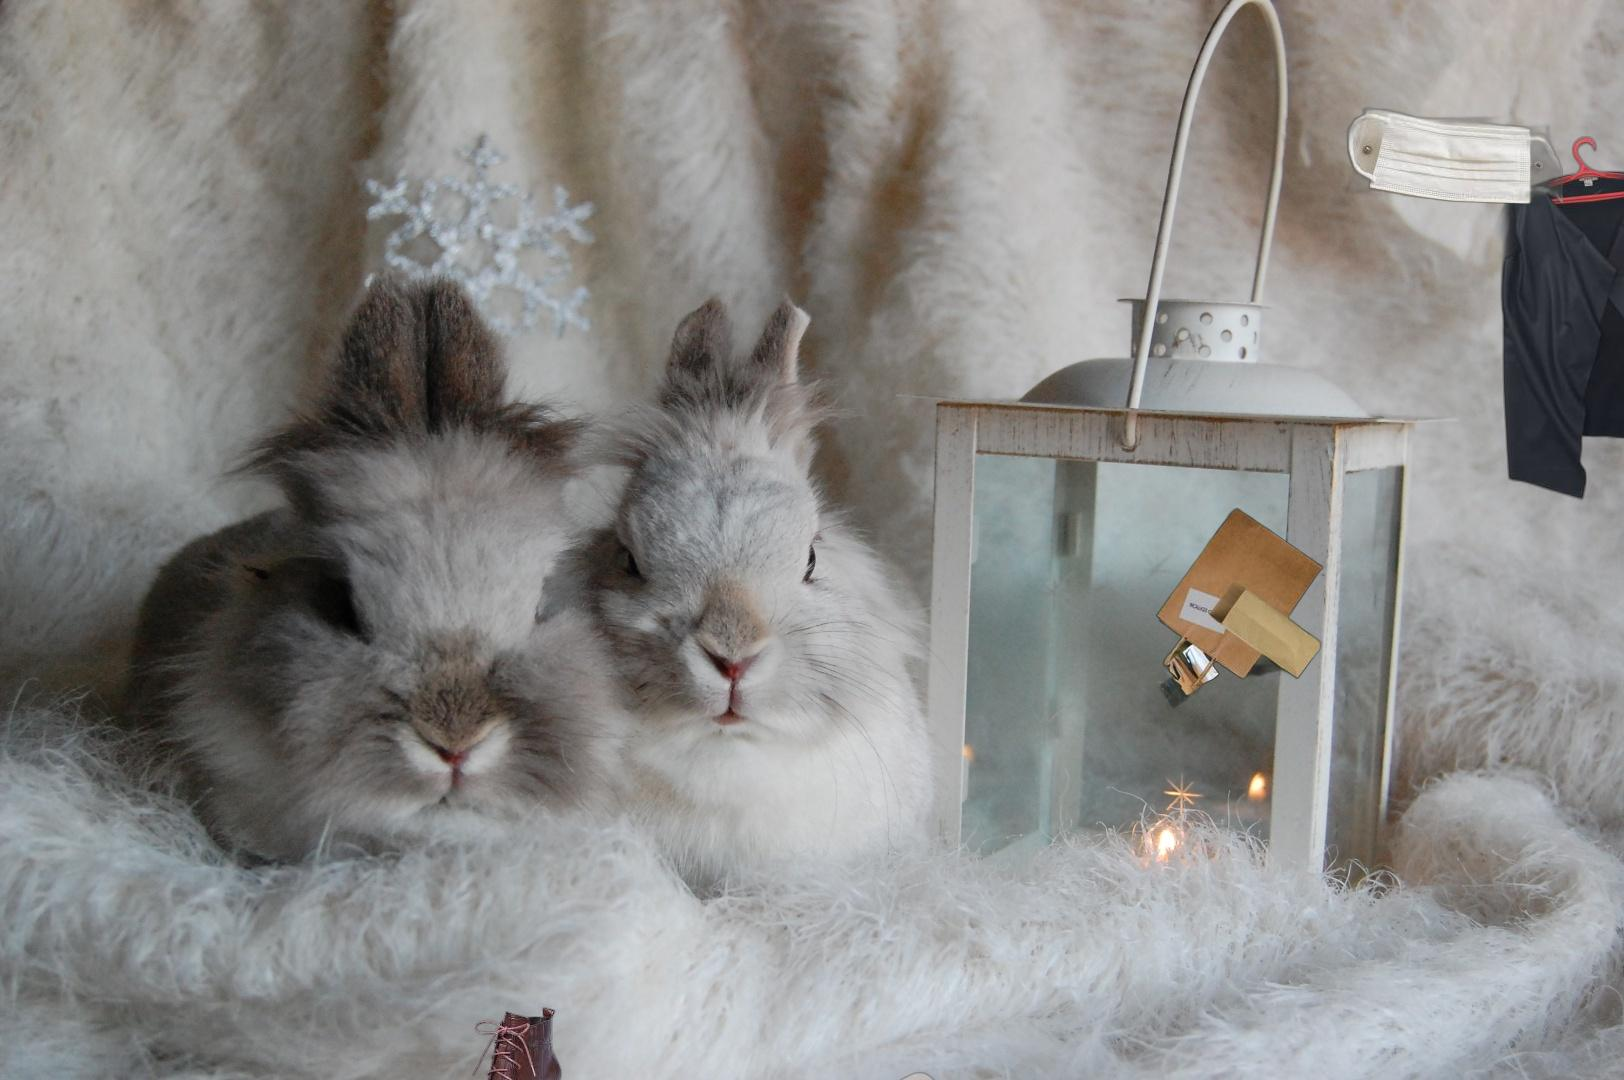clothes: (1465, 133, 1624, 503)
glass: (669, 1069, 982, 1080)
paper-bag: (1155, 507, 1357, 711)
shoes: (441, 1005, 565, 1080)
trash: (1343, 100, 1563, 212)
